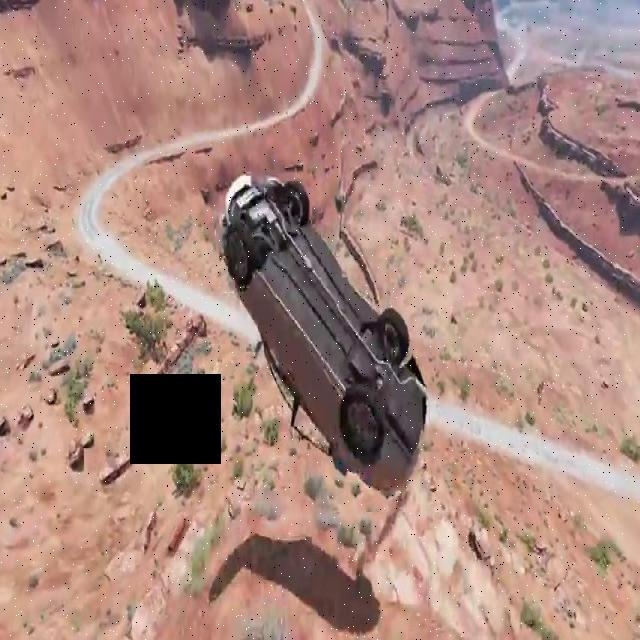severe: (222, 163, 428, 497)
